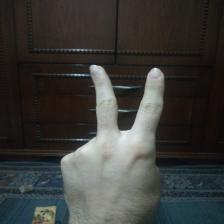two: (51, 59, 177, 217)
